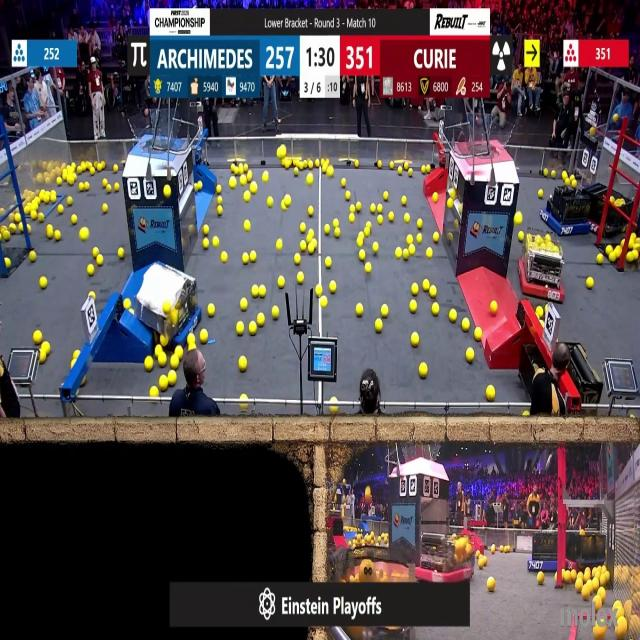ball_airborne: (165, 184, 172, 198), (363, 488, 370, 500), (615, 116, 620, 124)
ball_ground: (594, 628, 606, 640), (486, 386, 496, 400), (239, 356, 248, 371), (34, 332, 43, 346), (169, 372, 177, 387), (159, 354, 168, 367), (145, 356, 153, 370), (466, 348, 474, 362), (412, 334, 420, 348), (488, 579, 496, 593), (420, 363, 428, 377), (171, 356, 179, 369), (160, 378, 168, 391), (80, 230, 88, 242), (450, 310, 458, 322), (200, 332, 208, 344), (412, 283, 420, 295), (328, 281, 336, 293), (256, 314, 264, 326), (208, 305, 215, 318), (376, 319, 383, 332), (516, 212, 523, 225), (39, 351, 46, 364), (595, 597, 602, 610), (249, 322, 257, 333), (628, 239, 636, 250), (411, 302, 418, 314), (40, 277, 47, 289), (258, 285, 265, 297), (243, 252, 250, 264), (296, 273, 303, 285), (250, 250, 257, 262), (316, 284, 323, 296), (273, 307, 280, 319), (356, 305, 363, 317), (241, 300, 248, 312), (238, 322, 245, 334), (324, 256, 331, 268), (563, 569, 570, 581), (596, 254, 604, 264), (230, 178, 238, 188), (41, 343, 49, 353), (2, 232, 10, 242), (282, 160, 290, 170), (382, 306, 388, 319), (395, 248, 402, 259), (491, 303, 498, 314), (89, 266, 96, 277), (278, 277, 285, 288), (429, 286, 436, 297), (250, 182, 257, 193), (320, 296, 327, 307), (358, 250, 365, 261), (364, 263, 371, 274), (176, 347, 183, 358), (161, 337, 168, 348), (632, 250, 639, 261), (574, 581, 581, 592), (474, 328, 480, 340), (432, 304, 438, 316), (462, 319, 468, 331), (537, 571, 543, 583), (371, 242, 377, 254), (536, 308, 542, 320), (203, 224, 210, 234), (97, 255, 104, 265), (244, 220, 251, 230), (308, 244, 315, 254), (244, 190, 251, 200), (150, 386, 157, 396), (123, 300, 130, 310), (212, 238, 219, 248), (154, 346, 161, 356), (220, 252, 227, 262), (188, 336, 195, 346), (240, 175, 247, 185), (37, 212, 44, 222), (356, 238, 363, 248), (479, 558, 486, 568), (232, 165, 239, 175), (588, 278, 594, 289), (252, 286, 258, 297), (204, 239, 210, 250), (117, 248, 123, 259), (30, 251, 36, 262), (423, 280, 429, 291), (410, 245, 416, 256), (308, 174, 314, 185), (46, 229, 52, 240), (402, 248, 408, 259), (50, 190, 56, 201), (308, 231, 314, 242), (240, 393, 248, 401), (299, 222, 305, 232), (268, 198, 274, 208), (277, 240, 283, 250), (294, 254, 300, 264), (388, 212, 394, 222), (299, 242, 305, 252), (55, 232, 61, 242), (336, 229, 342, 239), (519, 233, 525, 243), (417, 218, 423, 228), (83, 184, 89, 194), (264, 172, 270, 182), (342, 180, 348, 190), (608, 252, 614, 262), (450, 188, 456, 198), (4, 257, 10, 267), (31, 211, 37, 221), (616, 248, 622, 258), (10, 222, 16, 232), (73, 350, 79, 360), (93, 248, 100, 256), (330, 408, 337, 416), (363, 227, 370, 235), (417, 234, 422, 245), (71, 215, 77, 224), (400, 197, 406, 206), (346, 190, 352, 199), (378, 215, 384, 224), (369, 204, 375, 213), (102, 204, 108, 213), (408, 236, 414, 245), (335, 218, 341, 227), (216, 197, 222, 206), (282, 200, 288, 209), (17, 223, 23, 232), (68, 176, 74, 185), (350, 204, 356, 213), (427, 248, 432, 258), (433, 234, 438, 244), (327, 168, 332, 178), (199, 184, 204, 194), (247, 172, 252, 182), (403, 214, 409, 222), (59, 206, 65, 214), (349, 214, 355, 222), (106, 184, 112, 192), (358, 231, 364, 239), (293, 168, 299, 176), (421, 165, 427, 173), (187, 224, 193, 232), (634, 242, 640, 250), (365, 220, 371, 228), (217, 207, 222, 216), (324, 224, 329, 233), (309, 207, 314, 216), (432, 192, 437, 201), (448, 200, 453, 209), (356, 203, 361, 212), (378, 205, 383, 214), (101, 180, 106, 189), (542, 169, 547, 178), (58, 177, 63, 186), (562, 171, 567, 180), (524, 412, 530, 419), (397, 168, 403, 175), (25, 208, 31, 215), (68, 198, 73, 206), (384, 190, 388, 200), (114, 183, 119, 191), (216, 185, 221, 193), (79, 182, 84, 190), (552, 171, 557, 179), (91, 290, 96, 298), (378, 162, 383, 170), (321, 167, 326, 175), (449, 234, 454, 242), (14, 214, 19, 222), (309, 162, 314, 170), (406, 161, 410, 170), (113, 166, 118, 173), (354, 162, 359, 169), (409, 170, 414, 177), (631, 234, 636, 241), (538, 189, 542, 197), (492, 544, 496, 552), (92, 168, 96, 176), (28, 224, 32, 232), (316, 160, 320, 168), (387, 161, 391, 168), (500, 544, 504, 551), (99, 162, 103, 168)
goal: (461, 117, 518, 158), (129, 115, 186, 151)
robot_blue: (135, 270, 200, 350), (544, 177, 592, 238), (528, 532, 558, 574)
robot_red: (519, 234, 564, 304), (417, 531, 472, 585)
